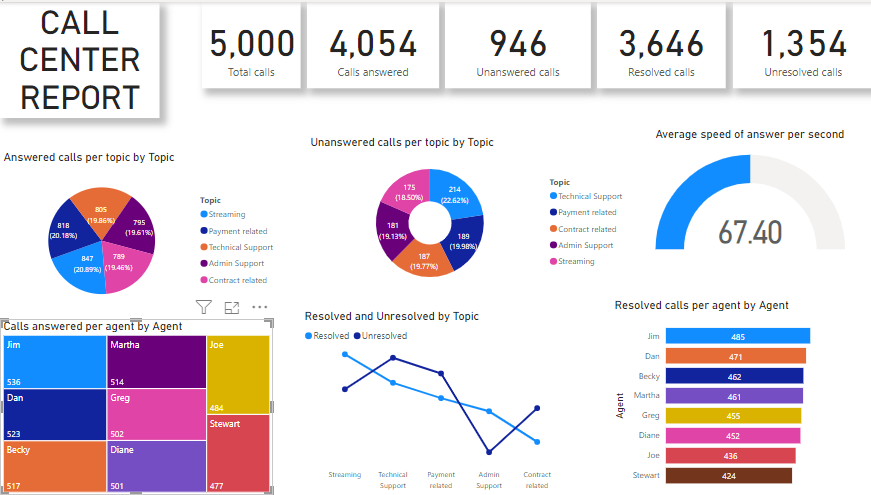

The dashboard page shown, as its layout file describes it:
{"tool":"powerbi","page":{"name":"Page 1","canvas":[1280,720],"ordinal":0},"visuals":[{"type":"card","fields":{"Values":["Number of calls.Total calls"]},"box":[295.6,0,144.5,126],"z":0},{"type":"card","fields":{"Values":["Answered calls per agent.Calls answered per agent"]},"box":[448.5,0,193.2,126],"z":1000},{"type":"card","fields":{"Values":["Unanswered calls per agent.Unanswered calls per agent"]},"box":[650.1,0,213.3,126],"z":2000},{"type":"card","fields":{"Values":["Resolved calls per agent.Resolved calls per agent"]},"box":[871.8,0,188.1,126],"z":3000},{"type":"card","fields":{"Values":["Unresolved calls per agent.Resolved calls per agent"]},"box":[1070,0,204.9,126],"z":4000},{"type":"donutChart","fields":{"Y":["Unanswered calls per topic.Unanswered calls per topic"],"Category":["Unanswered calls per topic.Topic"]},"box":[447.8,194.4,475.2,237.6],"z":5000},{"type":"pieChart","fields":{"Category":["Answered calls per topic.Topic"],"Y":["Answered calls per topic.Answered calls per topic"]},"box":[0,216,413.3,246.2],"z":6000},{"type":"treemap","fields":{"Group":["Answered calls per agent.Agent"],"Values":["Answered calls per agent.Calls answered per agent"]},"box":[0,462.2,398.9,257.8],"z":7000},{"type":"gauge","title":"Average speed of answer per second","fields":{"Y":["Average speed of answer.Average speed of answer"]},"box":[951.8,182.9,286.6,200.2],"z":8000},{"type":"barChart","fields":{"Category":["Resolved calls per agent.Agent"],"Y":["Resolved calls per agent.Resolved calls per agent"]},"box":[892.8,432,345.6,288],"z":9000},{"type":"lineChart","fields":{"Category":["Resolved calls per topic.Topic"],"Y":["Resolved calls per topic.Resolved calls per topic"],"Y2":["Unresolved calls per topic.Unresolved calls per topic"]},"box":[439.2,447.8,381.6,272.2],"z":10000},{"type":"textbox","title":"CALL CENTER REPORT","box":[0,1.4,233.3,168.5],"z":11000}]}

Visuals, with their boxes in screenshot pixels (x1, y1, x2, y2), scaled from the page's 1280x720 canvas onto the 871x495 screenshot:
card - Number of calls.Total calls: 201/0/299/87
card - Answered calls per agent.Calls answered per agent: 305/0/437/87
card - Unanswered calls per agent.Unanswered calls per agent: 442/0/588/87
card - Resolved calls per agent.Resolved calls per agent: 593/0/721/87
card - Unresolved calls per agent.Resolved calls per agent: 728/0/868/87
donutChart - Unanswered calls per topic.Unanswered calls per topic x Unanswered calls per topic.Topic: 305/134/628/297
pieChart - Answered calls per topic.Topic x Answered calls per topic.Answered calls per topic: 0/148/281/318
treemap - Answered calls per agent.Agent x Answered calls per agent.Calls answered per agent: 0/318/271/494
"Average speed of answer per second" gauge: 648/126/843/263
barChart - Resolved calls per agent.Agent x Resolved calls per agent.Resolved calls per agent: 608/297/843/494
lineChart - Resolved calls per topic.Topic x Resolved calls per topic.Resolved calls per topic: 299/308/559/494
"CALL CENTER REPORT" textbox: 0/1/159/117
